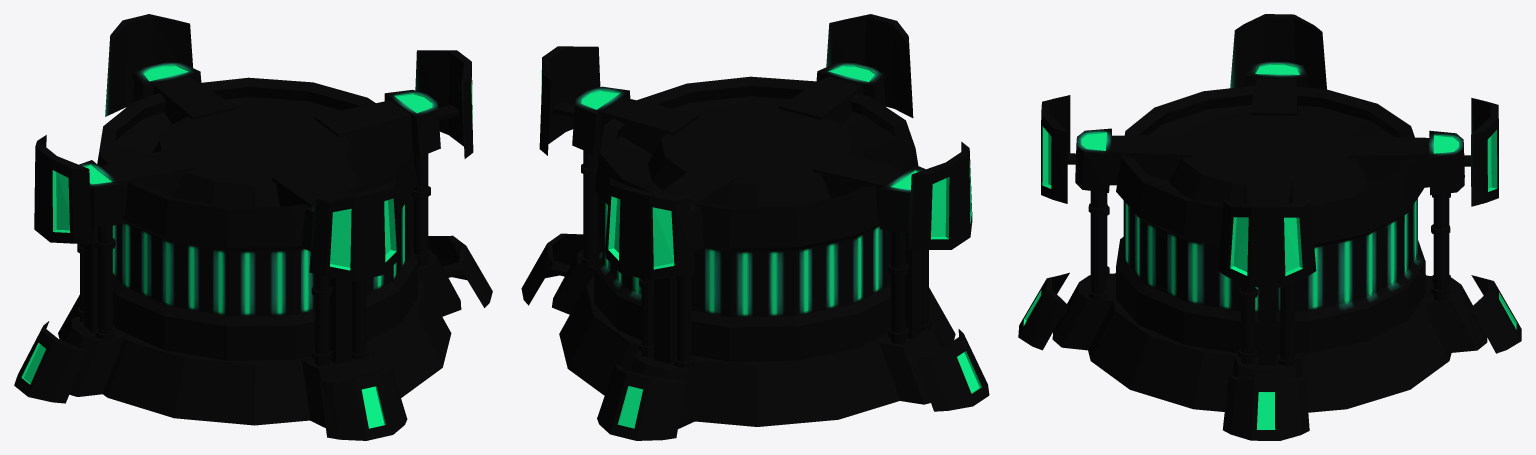
The model's file is shield_generator_base_emissive.obj.
3 views of the same model, side by side, from view 1: azimuth 30°, elevation 25°; view 2: azimuth 150°, elevation 25°; view 3: azimuth 270°, elevation 25° (orthographic). The views are drawn at different scales.
Parts seen in each view (by area): view 1: Shield_generatorpCylinder1_Shield_generatorlambert5_0, Shield_generatorpolySurface1_Shield_generatorlambert5_0, Shield_generatorpCylinder3_Shield_generatorlambert5_0, Shield_generatorpolySurface7_Shield_generatorlambert5_0_2, Shield_generatorpolySurface8_Shield_generatorlambert5_0_2, Shield_generatorpolySurface7_Shield_generatorlambert5_0, Shield_generatorpolySurface7_Shield_generatorlambert5_0_3, Shield_generatorpolySurface7_Shield_generatorlambert5_0_1, Shield_generatorpolySurface8_Shield_generatorlambert5_0_3, Shield_generatorpolySurface6_Shield_generatorlambert5_0_1, Shield_generatorpolySurface3_Shield_generatorlambert5_0_3, Shield_generatorpolySurface6_Shield_generatorlambert5_0_3 (+14 smaller); view 2: Shield_generatorpCylinder1_Shield_generatorlambert5_0, Shield_generatorpolySurface1_Shield_generatorlambert5_0, Shield_generatorpCylinder3_Shield_generatorlambert5_0, Shield_generatorpolySurface7_Shield_generatorlambert5_0, Shield_generatorpolySurface7_Shield_generatorlambert5_0_3, Shield_generatorpolySurface7_Shield_generatorlambert5_0_2, Shield_generatorpolySurface8_Shield_generatorlambert5_0, Shield_generatorpolySurface7_Shield_generatorlambert5_0_1, Shield_generatorpolySurface8_Shield_generatorlambert5_0_3, Shield_generatorpolySurface6_Shield_generatorlambert5_0_1, Shield_generatorpolySurface3_Shield_generatorlambert5_0_3, Shield_generatorpolySurface6_Shield_generatorlambert5_0_3 (+16 smaller); view 3: Shield_generatorpCylinder1_Shield_generatorlambert5_0, Shield_generatorpolySurface1_Shield_generatorlambert5_0, Shield_generatorpCylinder3_Shield_generatorlambert5_0, Shield_generatorpolySurface7_Shield_generatorlambert5_0_1, Shield_generatorpolySurface8_Shield_generatorlambert5_0_1, Shield_generatorpolySurface7_Shield_generatorlambert5_0_3, Shield_generatorpolySurface7_Shield_generatorlambert5_0_2, Shield_generatorpolySurface6_Shield_generatorlambert5_0_2, Shield_generatorpolySurface7_Shield_generatorlambert5_0, Shield_generatorpolySurface6_Shield_generatorlambert5_0, Shield_generatorpolySurface3_Shield_generatorlambert5_0, Shield_generatorpolySurface3_Shield_generatorlambert5_0_2 (+13 smaller).
Boxes of the visible parts, x1,y1,x2,y2 form: Shield_generatorpCylinder1_Shield_generatorlambert5_0: (97, 77, 417, 360); Shield_generatorpolySurface1_Shield_generatorlambert5_0: (58, 277, 451, 425); Shield_generatorpCylinder3_Shield_generatorlambert5_0: (152, 105, 363, 207); Shield_generatorpolySurface7_Shield_generatorlambert5_0_2: (309, 180, 400, 281); Shield_generatorpolySurface8_Shield_generatorlambert5_0_2: (320, 364, 407, 440); Shield_generatorpolySurface7_Shield_generatorlambert5_0: (105, 14, 192, 116); Shield_generatorpolySurface7_Shield_generatorlambert5_0_3: (34, 135, 91, 244); Shield_generatorpolySurface7_Shield_generatorlambert5_0_1: (415, 50, 473, 158); Shield_generatorpolySurface8_Shield_generatorlambert5_0_3: (14, 321, 86, 403); Shield_generatorpolySurface6_Shield_generatorlambert5_0_1: (314, 100, 412, 156); Shield_generatorpolySurface3_Shield_generatorlambert5_0_3: (62, 316, 133, 396); Shield_generatorpolySurface6_Shield_generatorlambert5_0_3: (100, 148, 193, 215); Shield_generatorpCylinder1_Shield_generatorlambert5_0: (594, 76, 918, 361); Shield_generatorpolySurface1_Shield_generatorlambert5_0: (559, 275, 955, 426); Shield_generatorpCylinder3_Shield_generatorlambert5_0: (648, 104, 863, 207); Shield_generatorpolySurface7_Shield_generatorlambert5_0: (605, 177, 695, 280); Shield_generatorpolySurface7_Shield_generatorlambert5_0_3: (908, 141, 972, 250); Shield_generatorpolySurface7_Shield_generatorlambert5_0_2: (826, 14, 913, 117); Shield_generatorpolySurface8_Shield_generatorlambert5_0: (597, 364, 685, 440); Shield_generatorpolySurface7_Shield_generatorlambert5_0_1: (539, 46, 600, 155); Shield_generatorpolySurface8_Shield_generatorlambert5_0_3: (915, 329, 989, 411); Shield_generatorpolySurface6_Shield_generatorlambert5_0_1: (600, 97, 699, 154); Shield_generatorpolySurface3_Shield_generatorlambert5_0_3: (871, 324, 944, 404); Shield_generatorpolySurface6_Shield_generatorlambert5_0_3: (813, 151, 906, 219); Shield_generatorpCylinder1_Shield_generatorlambert5_0: (1116, 85, 1425, 353); Shield_generatorpolySurface1_Shield_generatorlambert5_0: (1088, 273, 1451, 412); Shield_generatorpCylinder3_Shield_generatorlambert5_0: (1170, 111, 1369, 205); Shield_generatorpolySurface7_Shield_generatorlambert5_0_1: (1217, 200, 1316, 287); Shield_generatorpolySurface8_Shield_generatorlambert5_0_1: (1222, 376, 1309, 440); Shield_generatorpolySurface7_Shield_generatorlambert5_0_3: (1230, 14, 1326, 89); Shield_generatorpolySurface7_Shield_generatorlambert5_0_2: (1041, 95, 1070, 203); Shield_generatorpolySurface6_Shield_generatorlambert5_0_2: (1109, 135, 1192, 185); Shield_generatorpolySurface7_Shield_generatorlambert5_0: (1471, 98, 1498, 206); Shield_generatorpolySurface6_Shield_generatorlambert5_0: (1348, 136, 1429, 187); Shield_generatorpolySurface3_Shield_generatorlambert5_0: (1418, 275, 1487, 352); Shield_generatorpolySurface3_Shield_generatorlambert5_0_2: (1052, 273, 1118, 350).
Bounding box in the file's own units: 0.8999 × 0.4456 × 0.8995.
